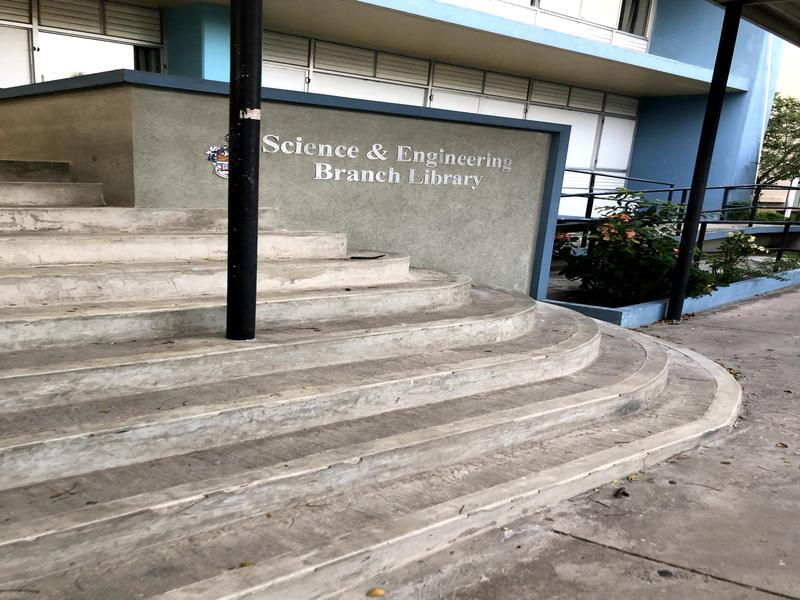18.0053644_-76.7493880_librarysign: (259, 117, 548, 208)
